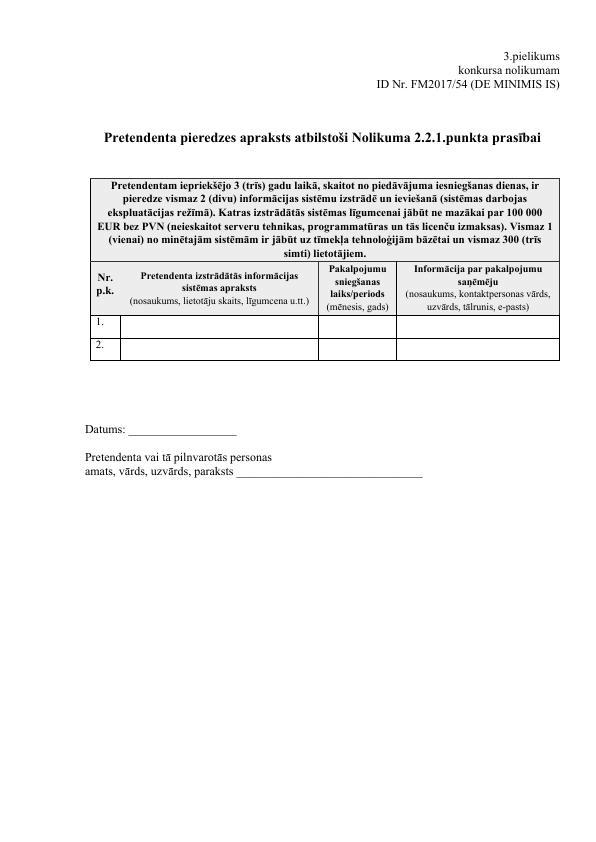input: (127, 420, 244, 443), (237, 469, 427, 483)
table: (84, 173, 569, 373)
text: (373, 46, 569, 104), (101, 128, 547, 153), (79, 448, 276, 466), (79, 467, 235, 482), (80, 420, 123, 439)
